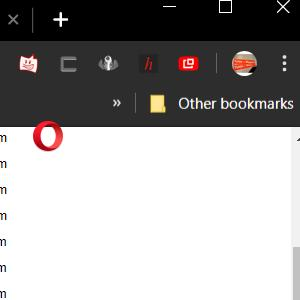opera: (33, 121, 63, 152)
